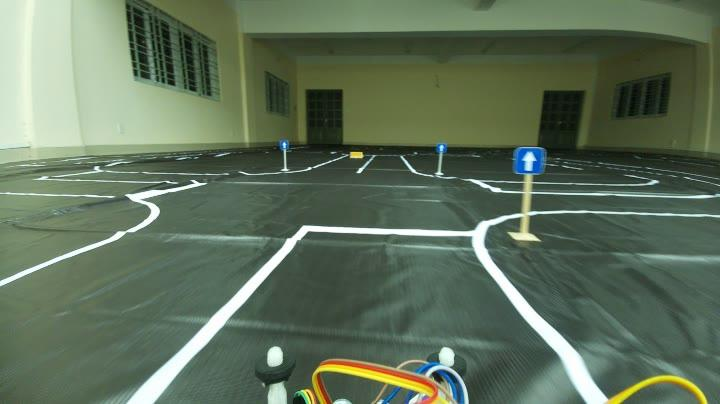onewayroad: (512, 142, 548, 178), (430, 141, 445, 155), (276, 138, 290, 148)
roadblock: (350, 148, 369, 160)
